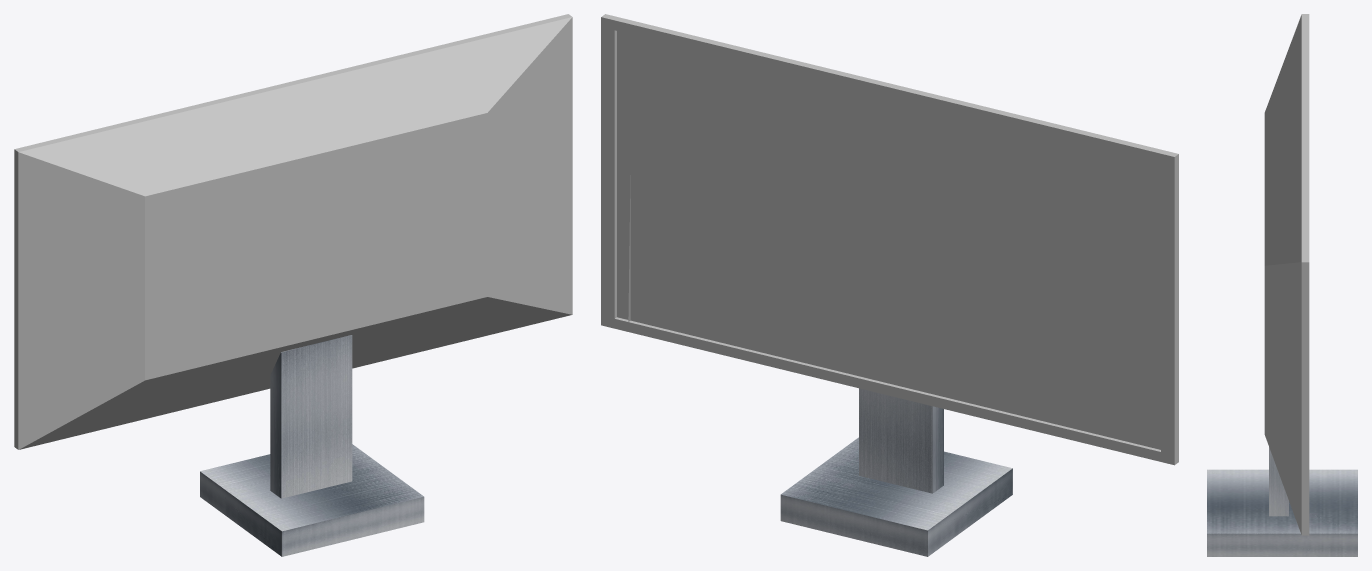
Rendered from Moniter .fbx.
The picture shows the model from 3 angles, left to right: view 1: azimuth 30°, elevation 25°; view 2: azimuth 150°, elevation 25°; view 3: azimuth 270°, elevation 25°; orthographic projection. The views are drawn at different scales.
Visible parts, largest first — view 1: Cube.014, Cube.016, Cube.015; view 2: Cube.014, Cube.016, Cube.015; view 3: Cube.014, Cube.016, Cube.015.
Boxes of the visible parts, x1,y1,x2,y2 form: Cube.014: (14, 14, 572, 449); Cube.016: (200, 444, 424, 556); Cube.015: (270, 335, 352, 498); Cube.014: (601, 14, 1178, 465); Cube.016: (780, 437, 1012, 556); Cube.015: (859, 388, 943, 493); Cube.014: (1264, 14, 1309, 535); Cube.016: (1207, 469, 1357, 556); Cube.015: (1269, 447, 1288, 516).
Size of the model in its own units: 312 by 225 by 80.
